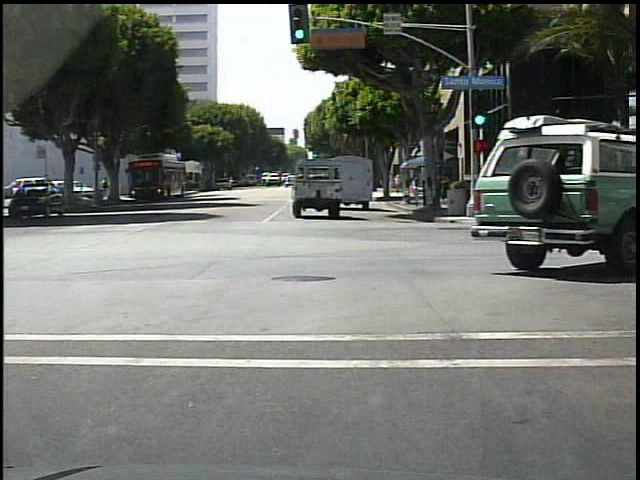person: (553, 157, 576, 228), (593, 164, 613, 225), (579, 166, 598, 223), (483, 163, 502, 220), (529, 154, 547, 214), (512, 161, 530, 216), (520, 165, 536, 218), (477, 164, 489, 216), (106, 175, 117, 201), (100, 176, 109, 199), (394, 170, 402, 194)
